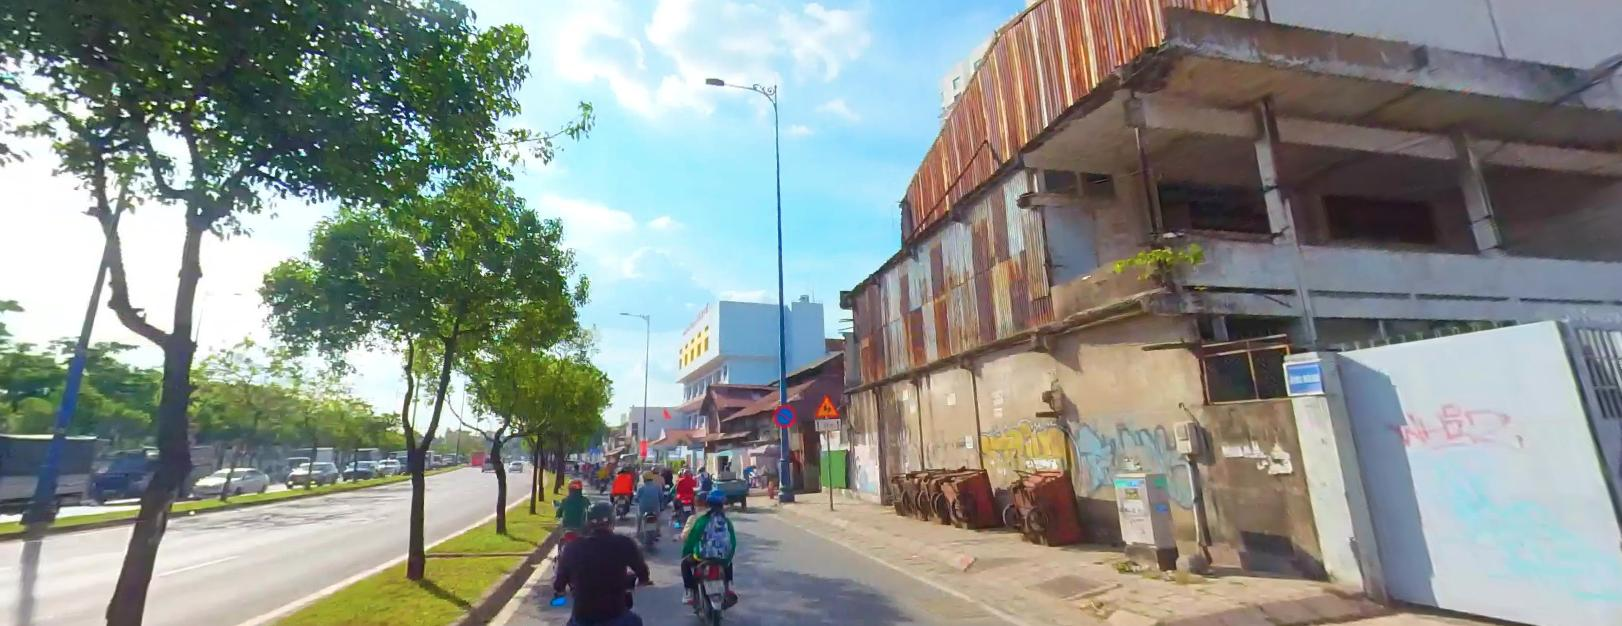Cam dung va do: (774, 403, 795, 425)
Nguy hiem: (813, 393, 839, 415)
